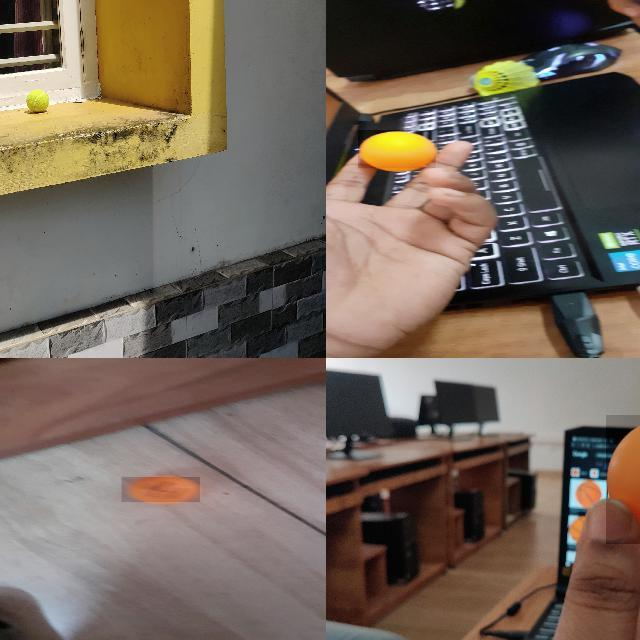ping-pong-ball: (606, 414, 639, 546), (358, 130, 437, 170), (121, 477, 202, 502)
